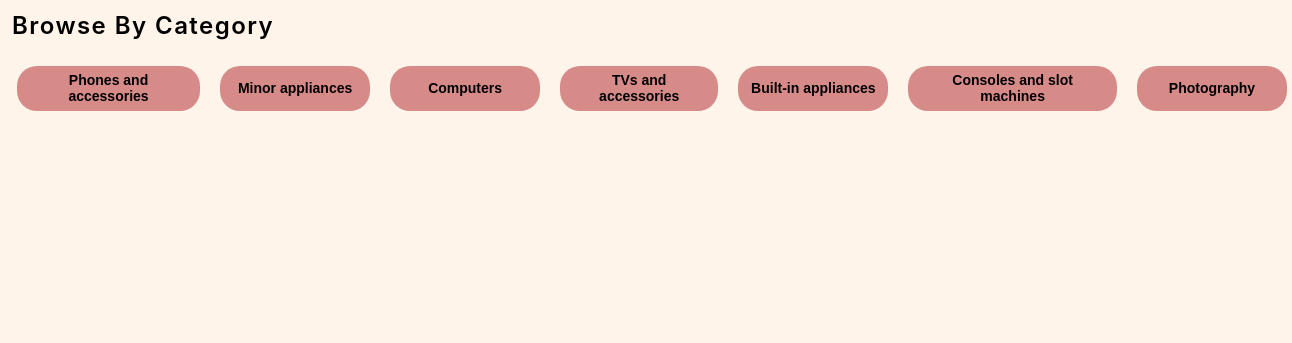
Test: CategorySection › expands subcategories on category button click
Click the button "Phones and accessories" at {"x": 109, "y": 88}, box 17,66 -> 200,111
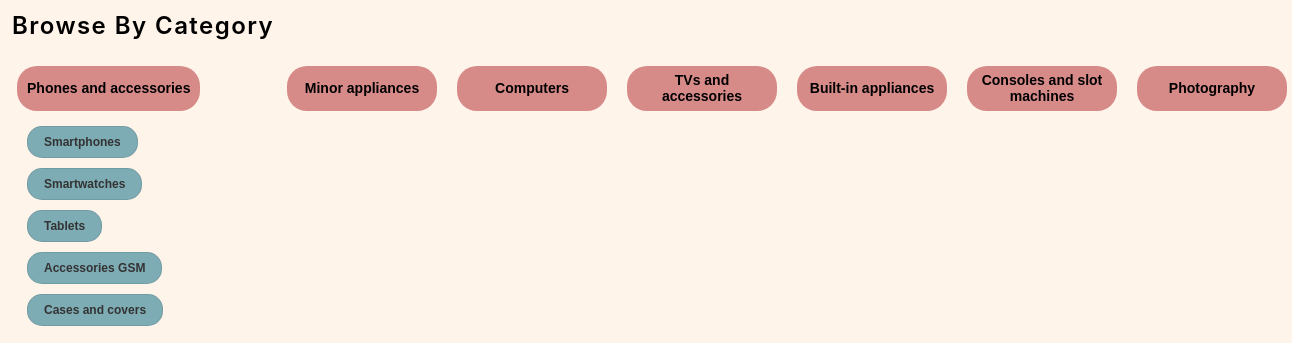
Now the text "Smartphones" is shown, box 44,135 -> 121,149
Now the text "Smartwatches" is shown, box 44,177 -> 125,191
